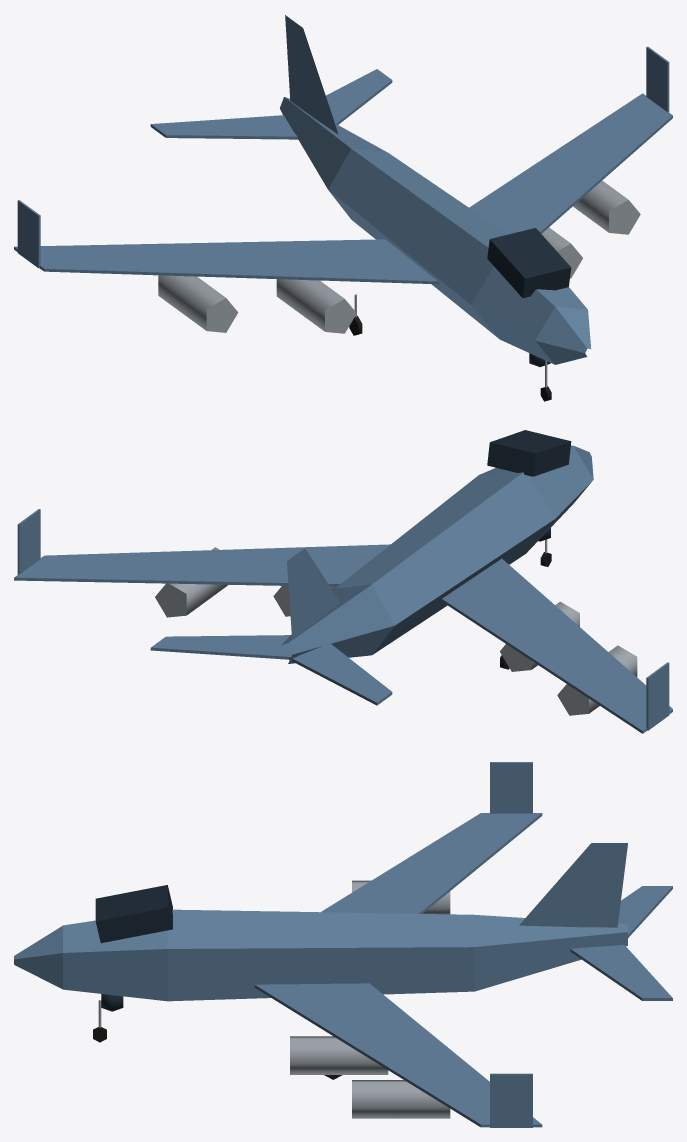
File: veh_air_airliner_a10_lod1.glb
The picture shows the model from 3 angles, top to bottom: view 1: azimuth 30°, elevation 25°; view 2: azimuth 150°, elevation 25°; view 3: azimuth 270°, elevation 25°; orthographic projection.
Parts seen in each view (by area): view 1: body; view 2: body; view 3: body.
Part boxes in pixels (x1=…): body: x1=14, y1=15, x2=672, y2=367; body: x1=14, y1=430, x2=672, y2=733; body: x1=14, y1=762, x2=672, y2=1127.
Bounding box in the file's own units: 27.68 × 8.22 × 24.68.
